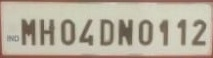character: (20, 18, 36, 46), (39, 18, 54, 46), (99, 18, 114, 46), (60, 18, 75, 45), (78, 19, 93, 46), (117, 18, 132, 45), (191, 19, 206, 46), (138, 19, 152, 45), (159, 19, 169, 46), (176, 18, 186, 45)
